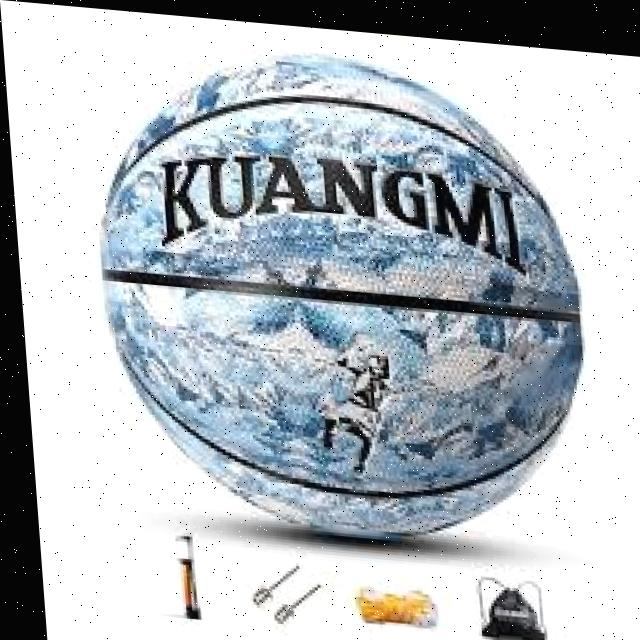Basketball: (84, 33, 600, 560)
